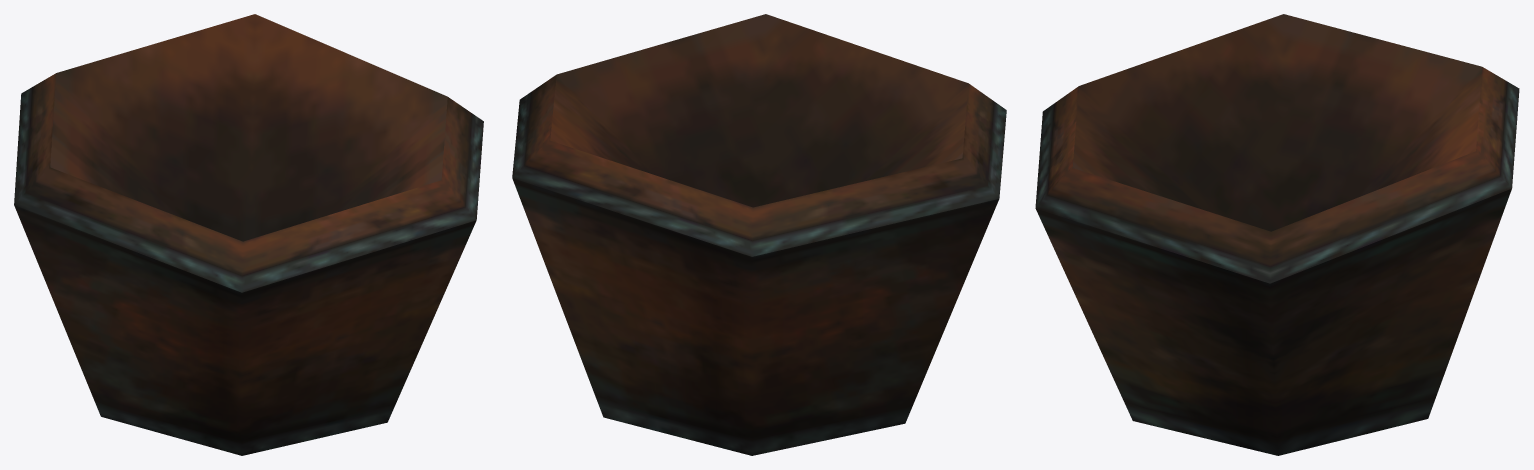
File: dwarvern_bowl_01.fbx
3 renders of one model, left to right at view 1: azimuth 30°, elevation 25°; view 2: azimuth 150°, elevation 25°; view 3: azimuth 270°, elevation 25°, orthographic. The views are drawn at different scales.
Parts seen in each view (by area): view 1: Material_#24/dwarvern_bowl01; view 2: Material_#24/dwarvern_bowl01; view 3: Material_#24/dwarvern_bowl01.
Boxes of the visible parts, x1,y1,x2,y2 form: Material_#24/dwarvern_bowl01: [14, 14, 483, 455]; Material_#24/dwarvern_bowl01: [512, 14, 1006, 455]; Material_#24/dwarvern_bowl01: [1035, 14, 1519, 455].
Size of the model in its own units: 0.5568 by 0.3201 by 0.4895.
